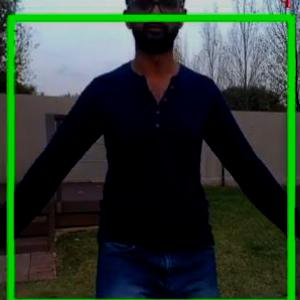land: (9, 4, 290, 299)
